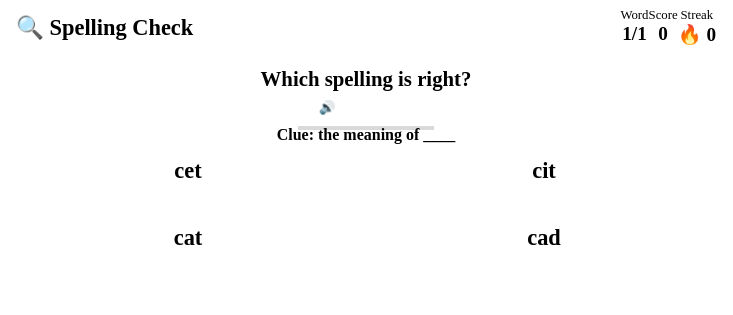
Test: Spelling Check › a miss shows and spells the right word for a while, gently
Click the button "cet": (188, 171) [16,144,360,199]
Wait 2500 ms
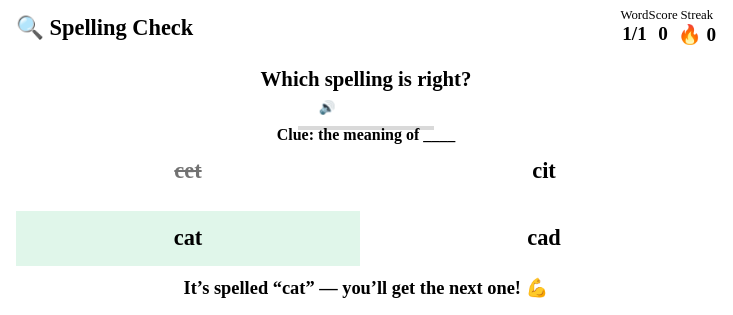
Expected: the message shows "It’s spelled “cat” — you’ll get the next one!", [184,278,548,298]
